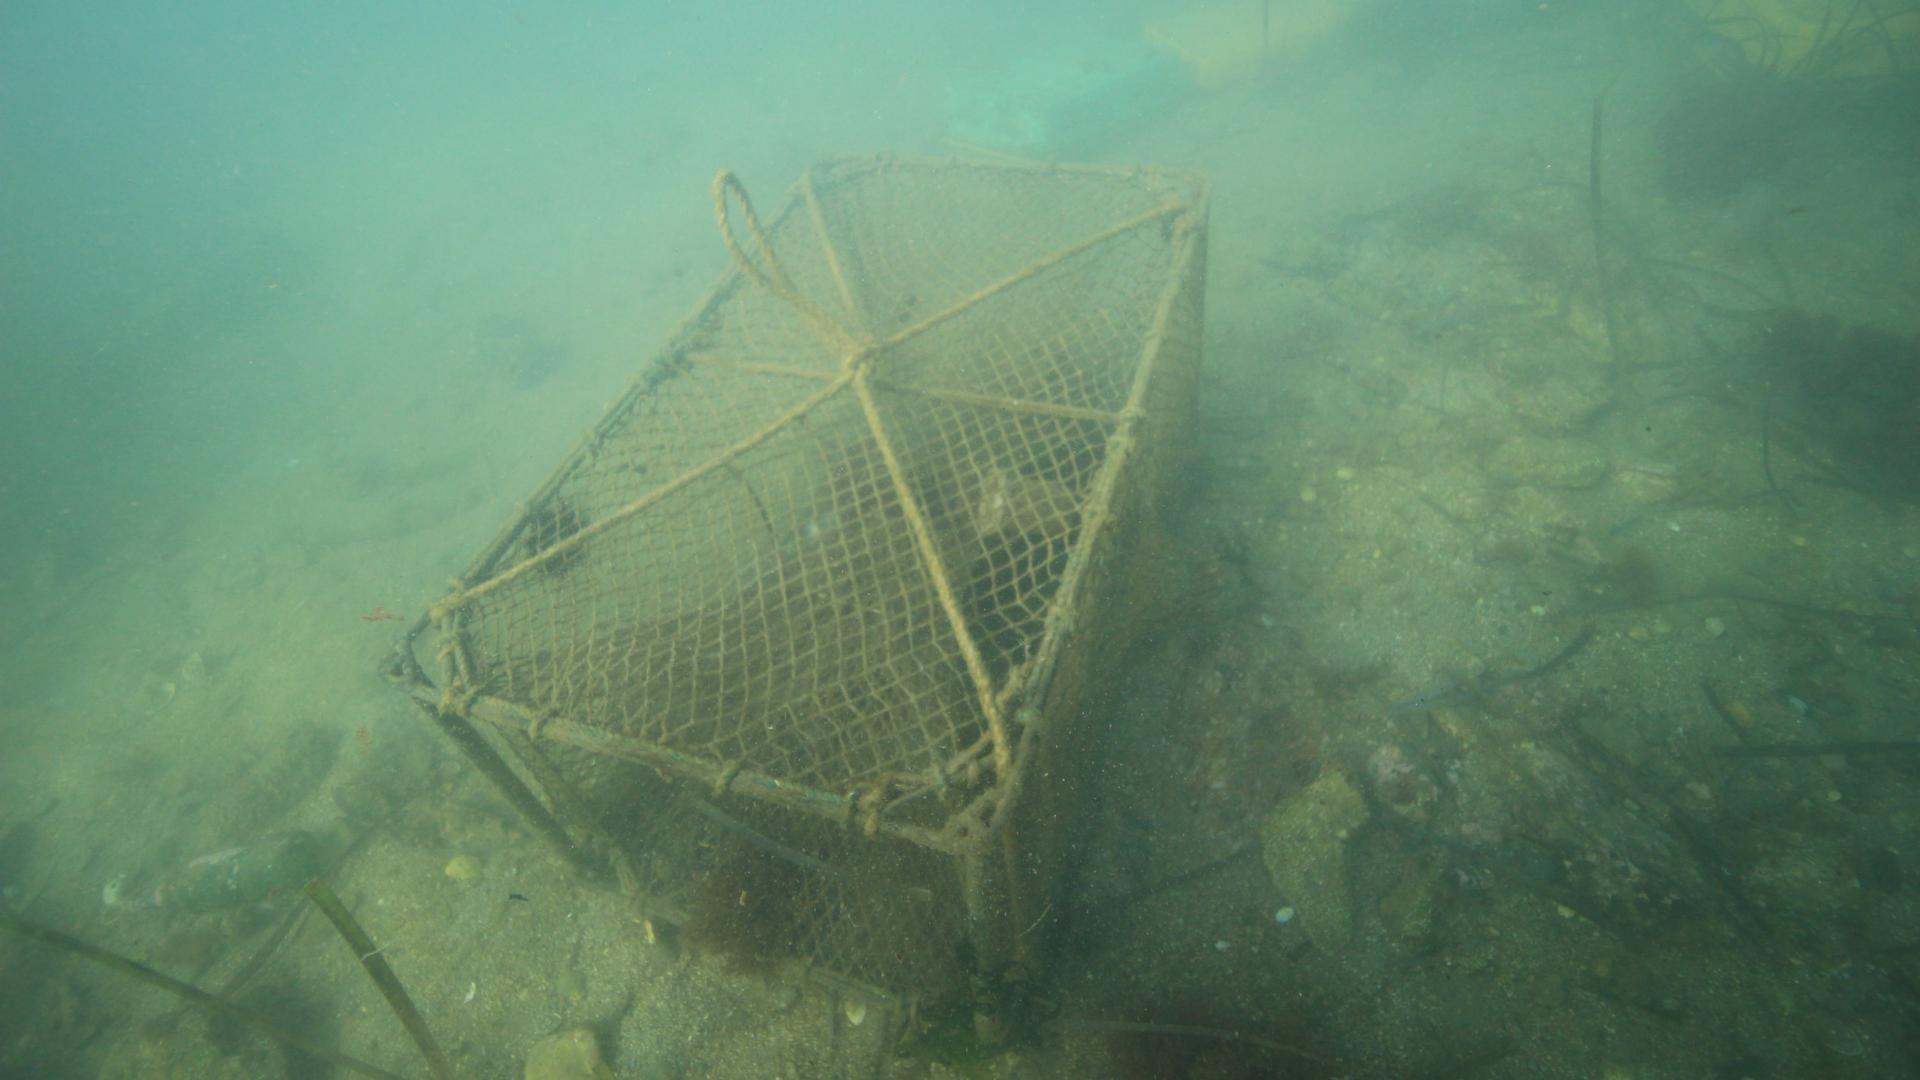rectangular fish trap: (376, 150, 1212, 1043)
